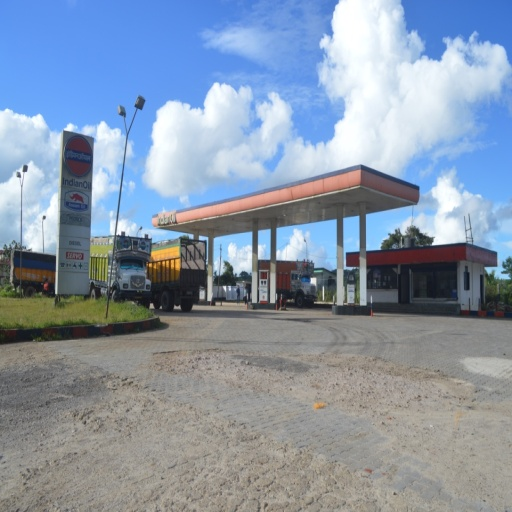roof: (144, 158, 419, 240)
